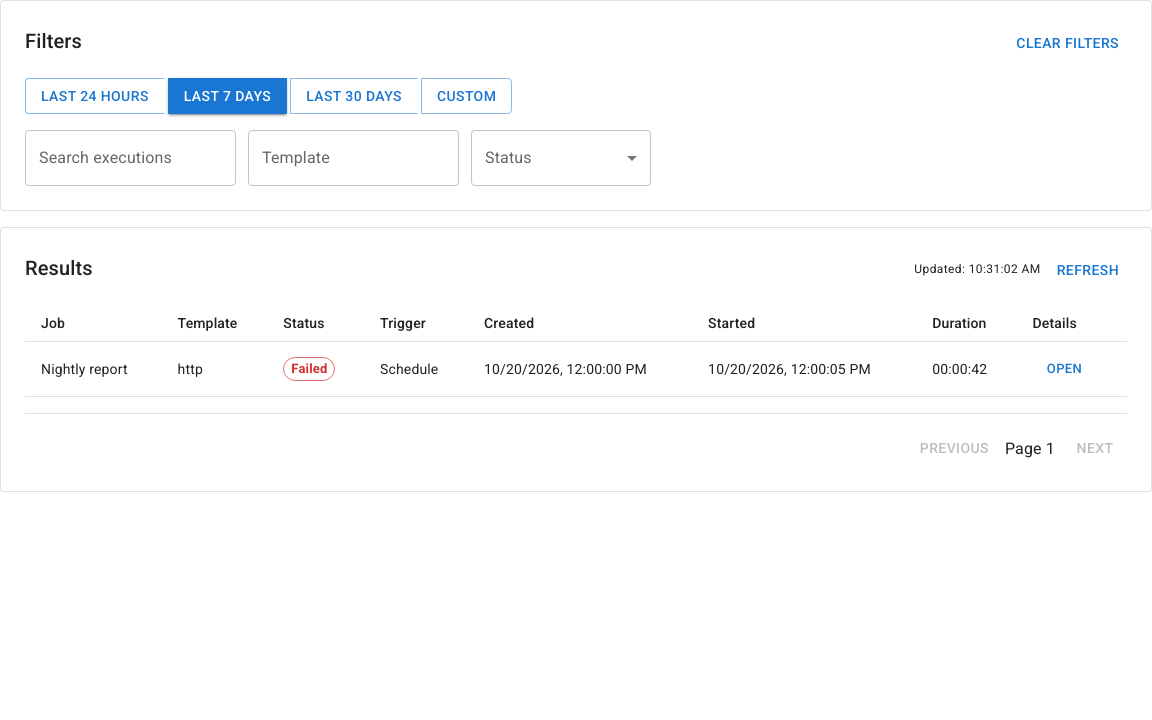
Test: shows unavailable and stale messages without discarding the last page
The image size is (1152, 720).
Expected: the text "Nightly report" is shown, [25,341,162,397]
Step 1. Click the button "Refresh" → (1088, 270), box [1049,252,1127,288]
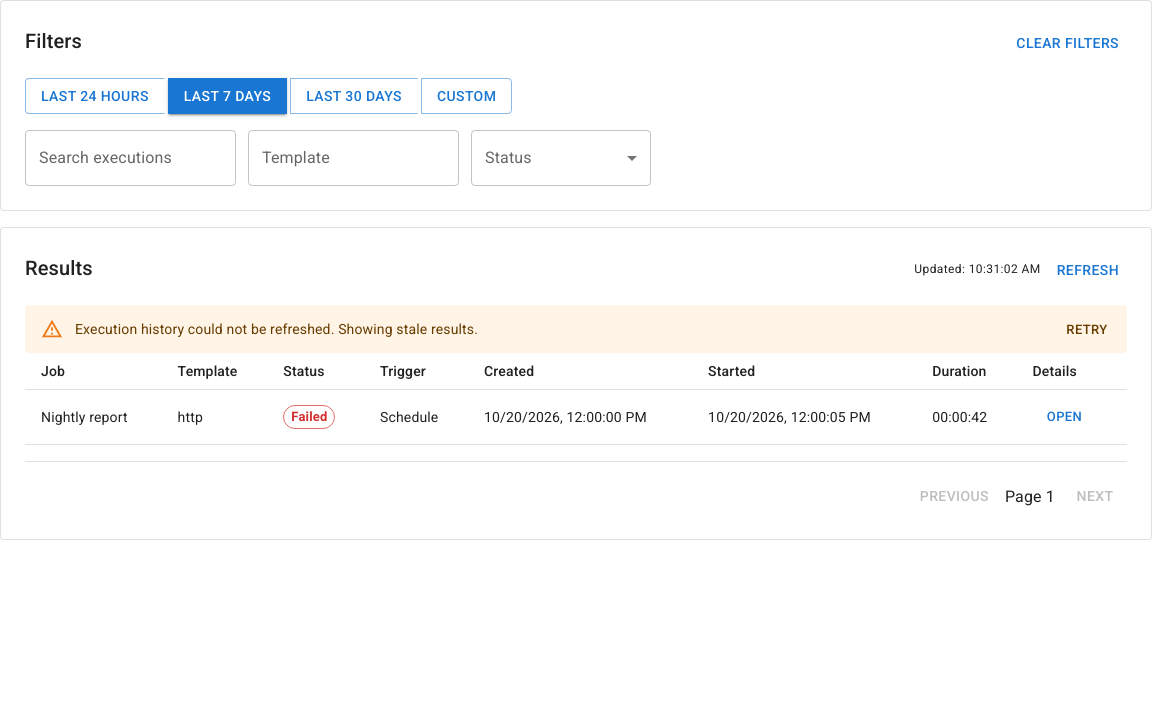
Expected: the text "Nightly report" is shown, [25,389,162,445]
Expected: the text "Showing stale results." is shown, [338,320,478,336]
